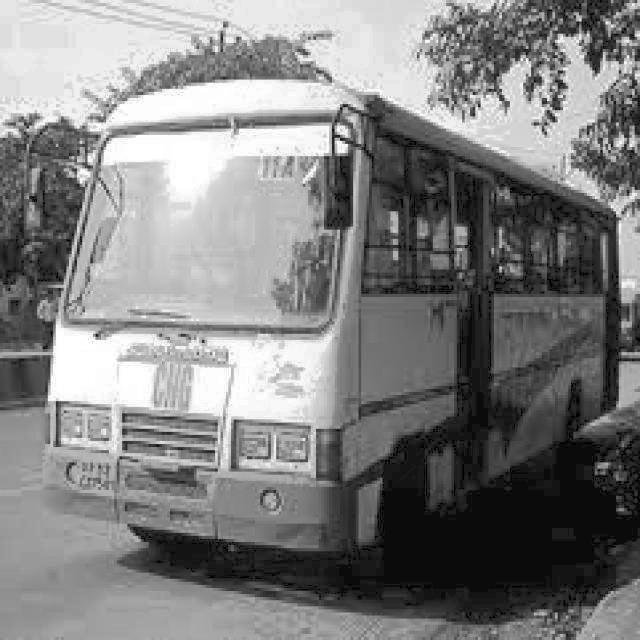Bus: (37, 68, 639, 562)
